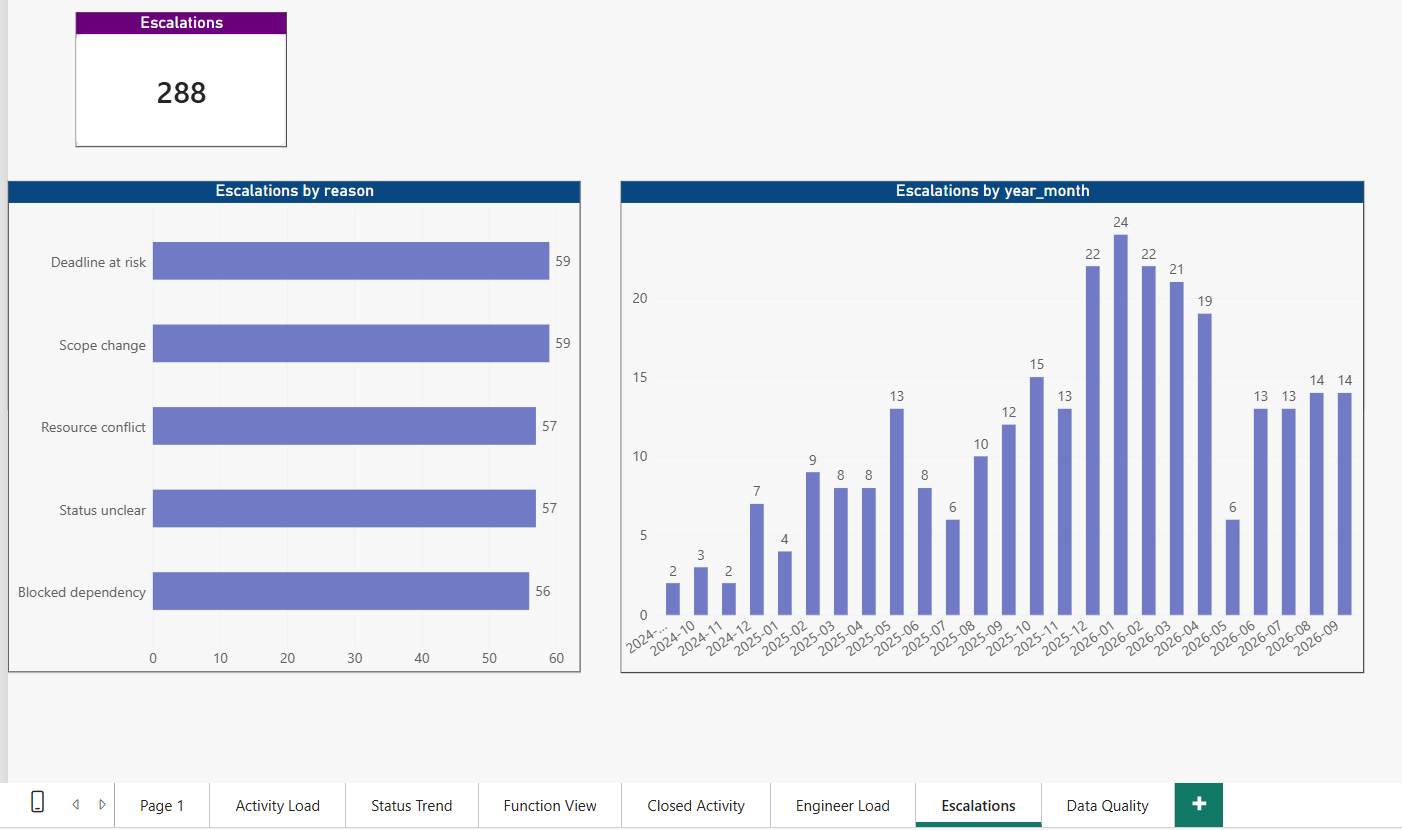

The page's visual inventory and layout, read from the dashboard file:
{"tool":"powerbi","page":{"name":"Escalations","canvas":[1920,1080],"ordinal":6},"visuals":[{"type":"cardVisual","title":"Escalations","fields":{"Data":["_Measures.Escalations"]},"box":[90.3,32.7,281.9,180.2],"z":0},{"type":"clusteredColumnChart","fields":{"Category":["dim_date.year_month"],"Y":["_Measures.Escalations"]},"box":[816.8,257.5,991.2,656.2],"z":1},{"type":"clusteredBarChart","fields":{"Category":["fact_escalation.reason"],"Y":["_Measures.Escalations"]},"box":[0,257.5,763,655.4],"z":2}]}

Visuals, with their boxes on the page's 1920x1080 design canvas (x1, y1, x2, y2). These are canvas units, not pixel positions in the 1402x830 screenshot, which may show the page scaled, cropped or inside an application window:
"Escalations" cardVisual: (90, 33, 372, 213)
clusteredColumnChart - dim_date.year_month x _Measures.Escalations: (817, 258, 1808, 914)
clusteredBarChart - fact_escalation.reason x _Measures.Escalations: (0, 258, 763, 913)
